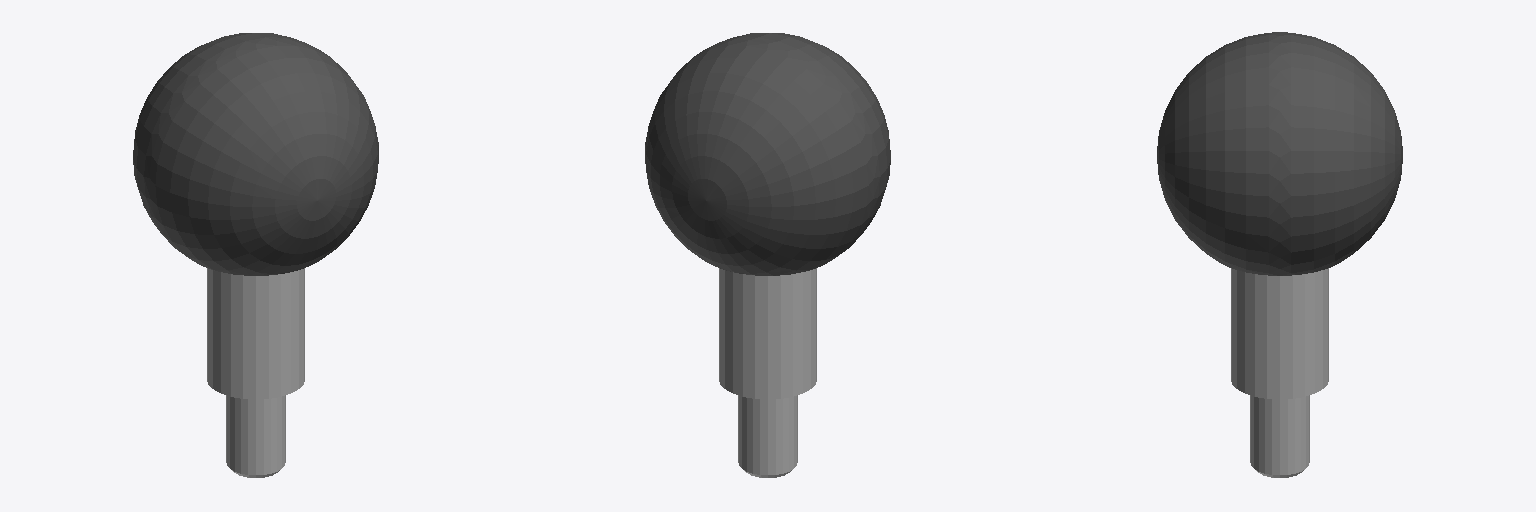
File: ganter_gn_319_2-25-m6-a.obj
The picture shows the model from 3 angles: view 1: azimuth 30°, elevation 25°; view 2: azimuth 150°, elevation 25°; view 3: azimuth 270°, elevation 25°; orthographic projection.
Parts seen in each view (by area): view 1: ganter_gn_319_2-25-m6-a_1; view 2: ganter_gn_319_2-25-m6-a_1; view 3: ganter_gn_319_2-25-m6-a_1.
Boxes of the visible parts, box(x1,y1,x2,y2) form: ganter_gn_319_2-25-m6-a_1: box(133, 33, 378, 477); ganter_gn_319_2-25-m6-a_1: box(645, 33, 890, 477); ganter_gn_319_2-25-m6-a_1: box(1157, 32, 1402, 477).
Bounding box in the file's own units: 24.99 × 47.5 × 25.